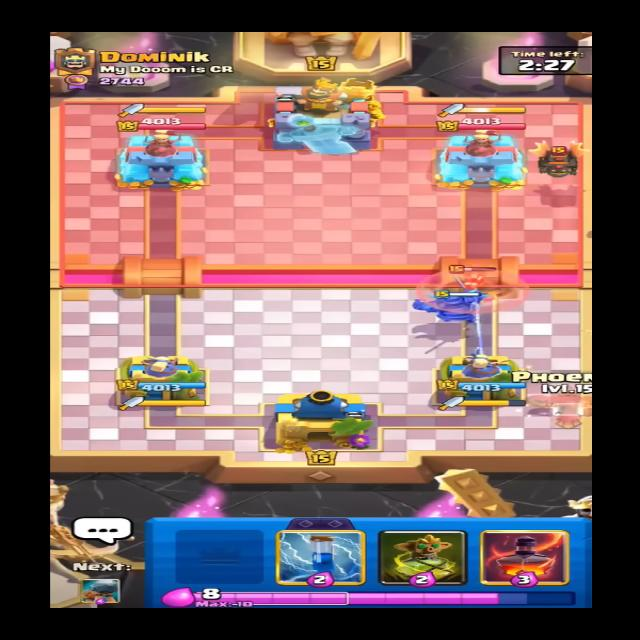Lavahound: (518, 136, 592, 178)
Valk: (444, 262, 500, 295)
